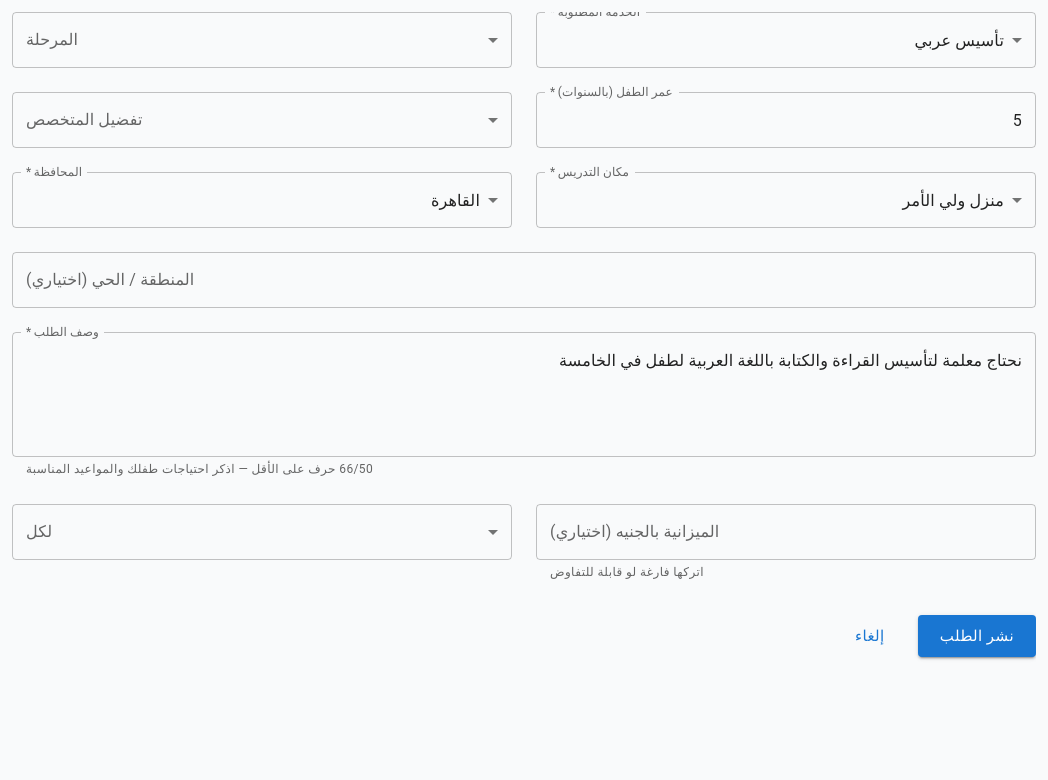
it: RequestForm › keeps the form and explains a permission refusal
Click the button "نشر الطلب": (977, 636) left=918, top=615, right=1036, bottom=657
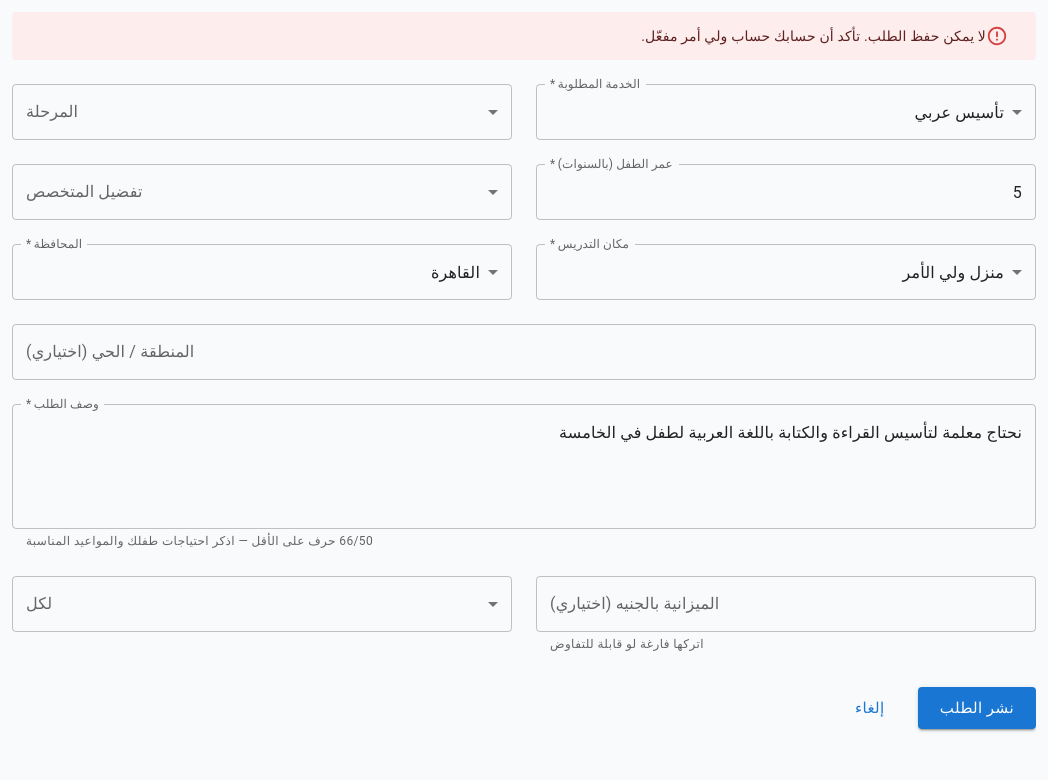
Expected: the button "نشر الطلب" is enabled, left=918, top=687, right=1036, bottom=729
Expected: the text "لا يمكن حفظ الطلب. تأكد أن حسابك حساب ولي أمر مفعّل." is shown, left=641, top=28, right=986, bottom=44
